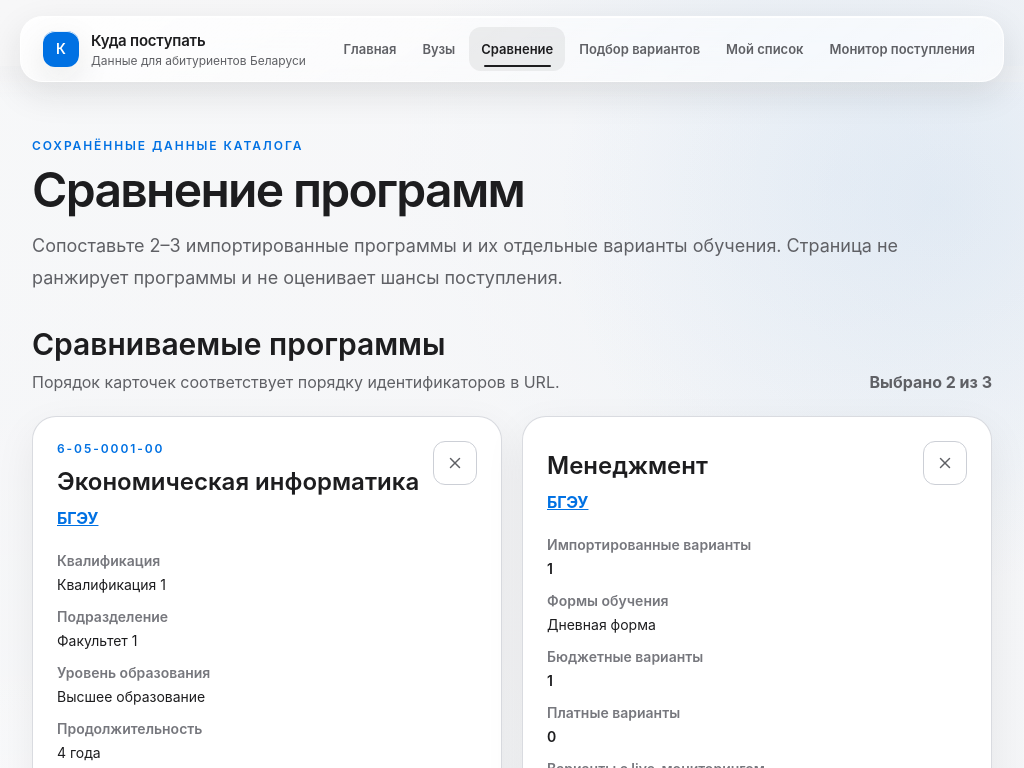
Test case: public Program comparison states and URL contract › removes Programs through URL navigation down to guidance and empty states
Click the button named "Убрать из сравнения — Экономическая информатика" at (455, 463), box [433,441,477,485]
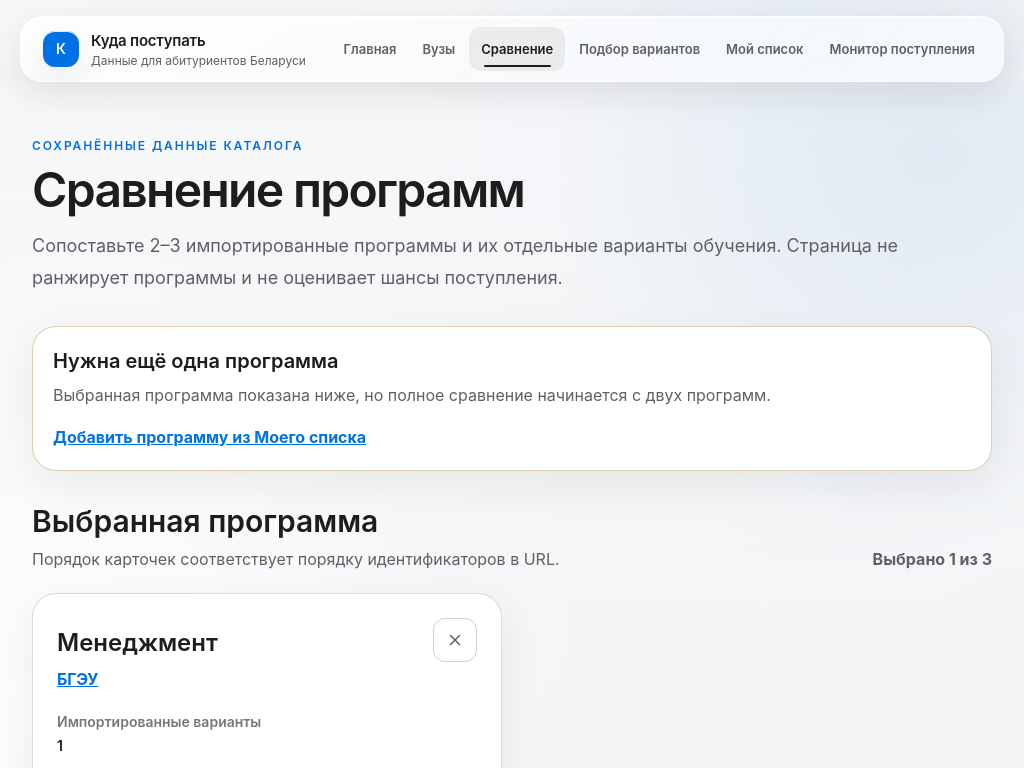
Expected: the heading "Нужна ещё одна программа" is shown, [53,349,338,373]
Expected: the heading "Экономическая информатика" is gone
Click the button named "Убрать из сравнения — Менеджмент" at (455, 640), box [433,618,477,662]
(page scrolled)
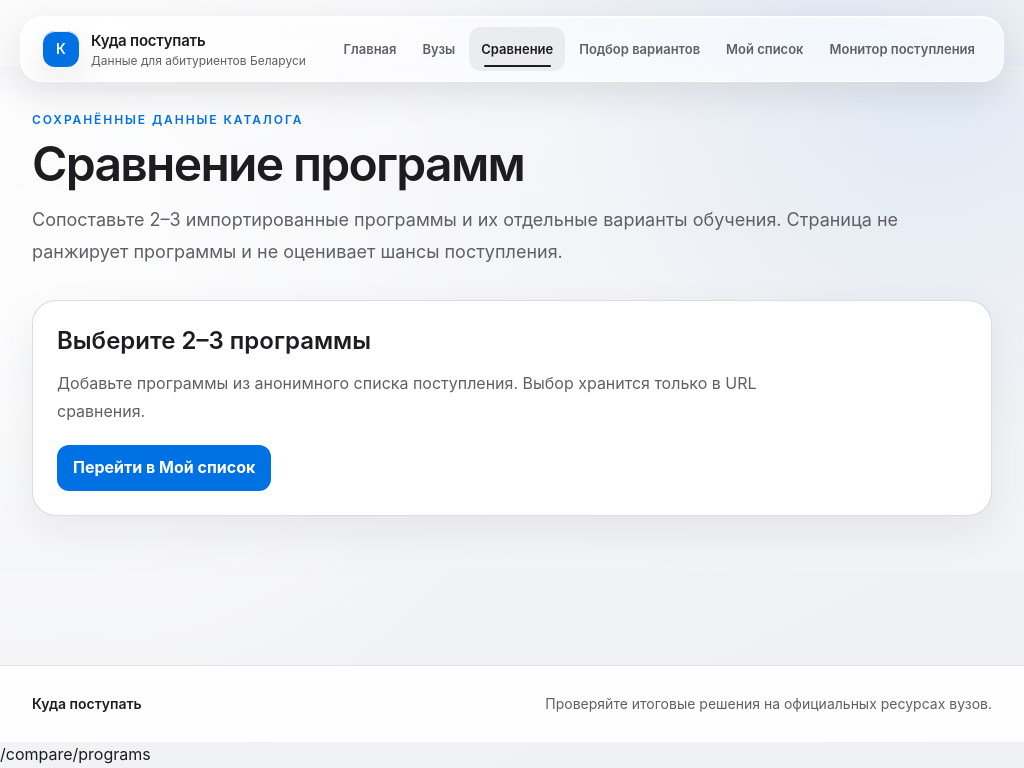
Expected: the heading "Выберите 2–3 программы" is shown, [57,326,371,355]
Expected: the text named "Текущий URL сравнения программ" reads "/compare/programs", [0,744,151,764]
